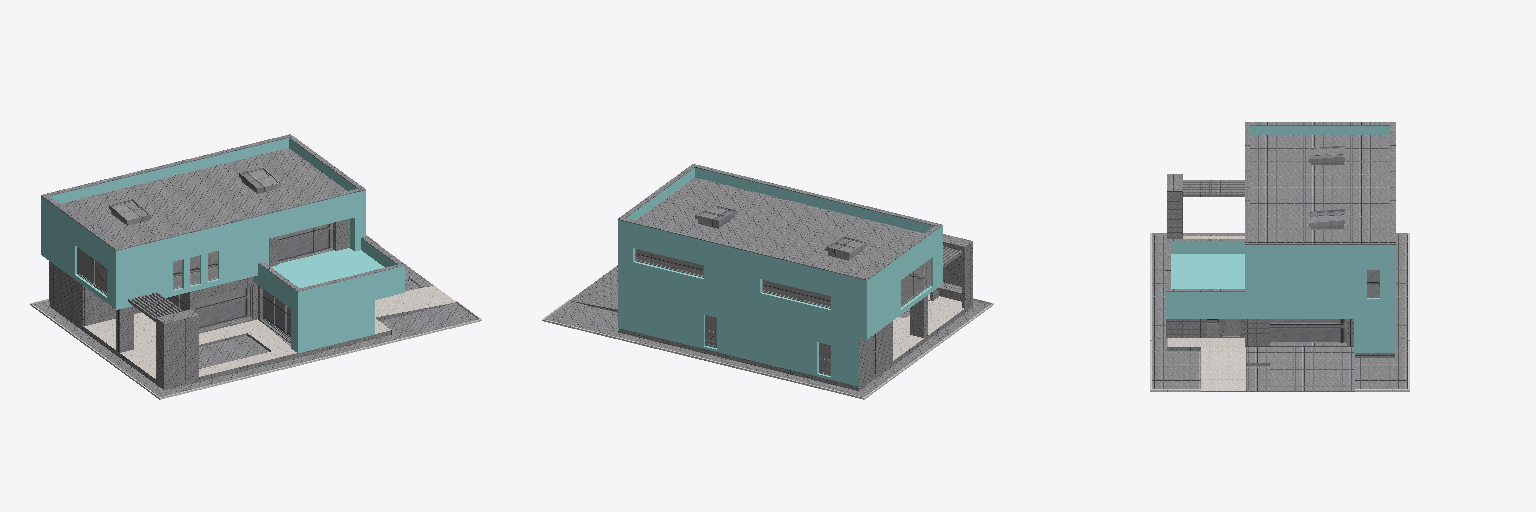
The picture shows the model from 3 angles: view 1: azimuth 30°, elevation 25°; view 2: azimuth 150°, elevation 25°; view 3: azimuth 270°, elevation 25°; orthographic projection.
Visible parts, largest first — view 1: MH03_OBJ01, MH03_OBJ03, MH03_OBJ02, MH03_OBJ04; view 2: MH03_OBJ01, MH03_OBJ03, MH03_OBJ02, MH03_OBJ04; view 3: MH03_OBJ01, MH03_OBJ03, MH03_OBJ02, MH03_OBJ04.
Boxes of the visible parts, x1,y1,x2,y2 form: MH03_OBJ01: [41, 134, 404, 384]; MH03_OBJ03: [30, 235, 481, 399]; MH03_OBJ02: [77, 223, 333, 339]; MH03_OBJ04: [109, 167, 280, 225]; MH03_OBJ01: [618, 164, 972, 390]; MH03_OBJ03: [542, 265, 993, 399]; MH03_OBJ02: [635, 249, 930, 375]; MH03_OBJ04: [695, 205, 867, 260]; MH03_OBJ01: [1166, 122, 1395, 357]; MH03_OBJ03: [1150, 233, 1409, 391]; MH03_OBJ02: [1207, 270, 1379, 342]; MH03_OBJ04: [1309, 145, 1344, 228].
Size of the model in its own units: 825 by 278 by 574.
Materials: 3 (2 with a texture image).